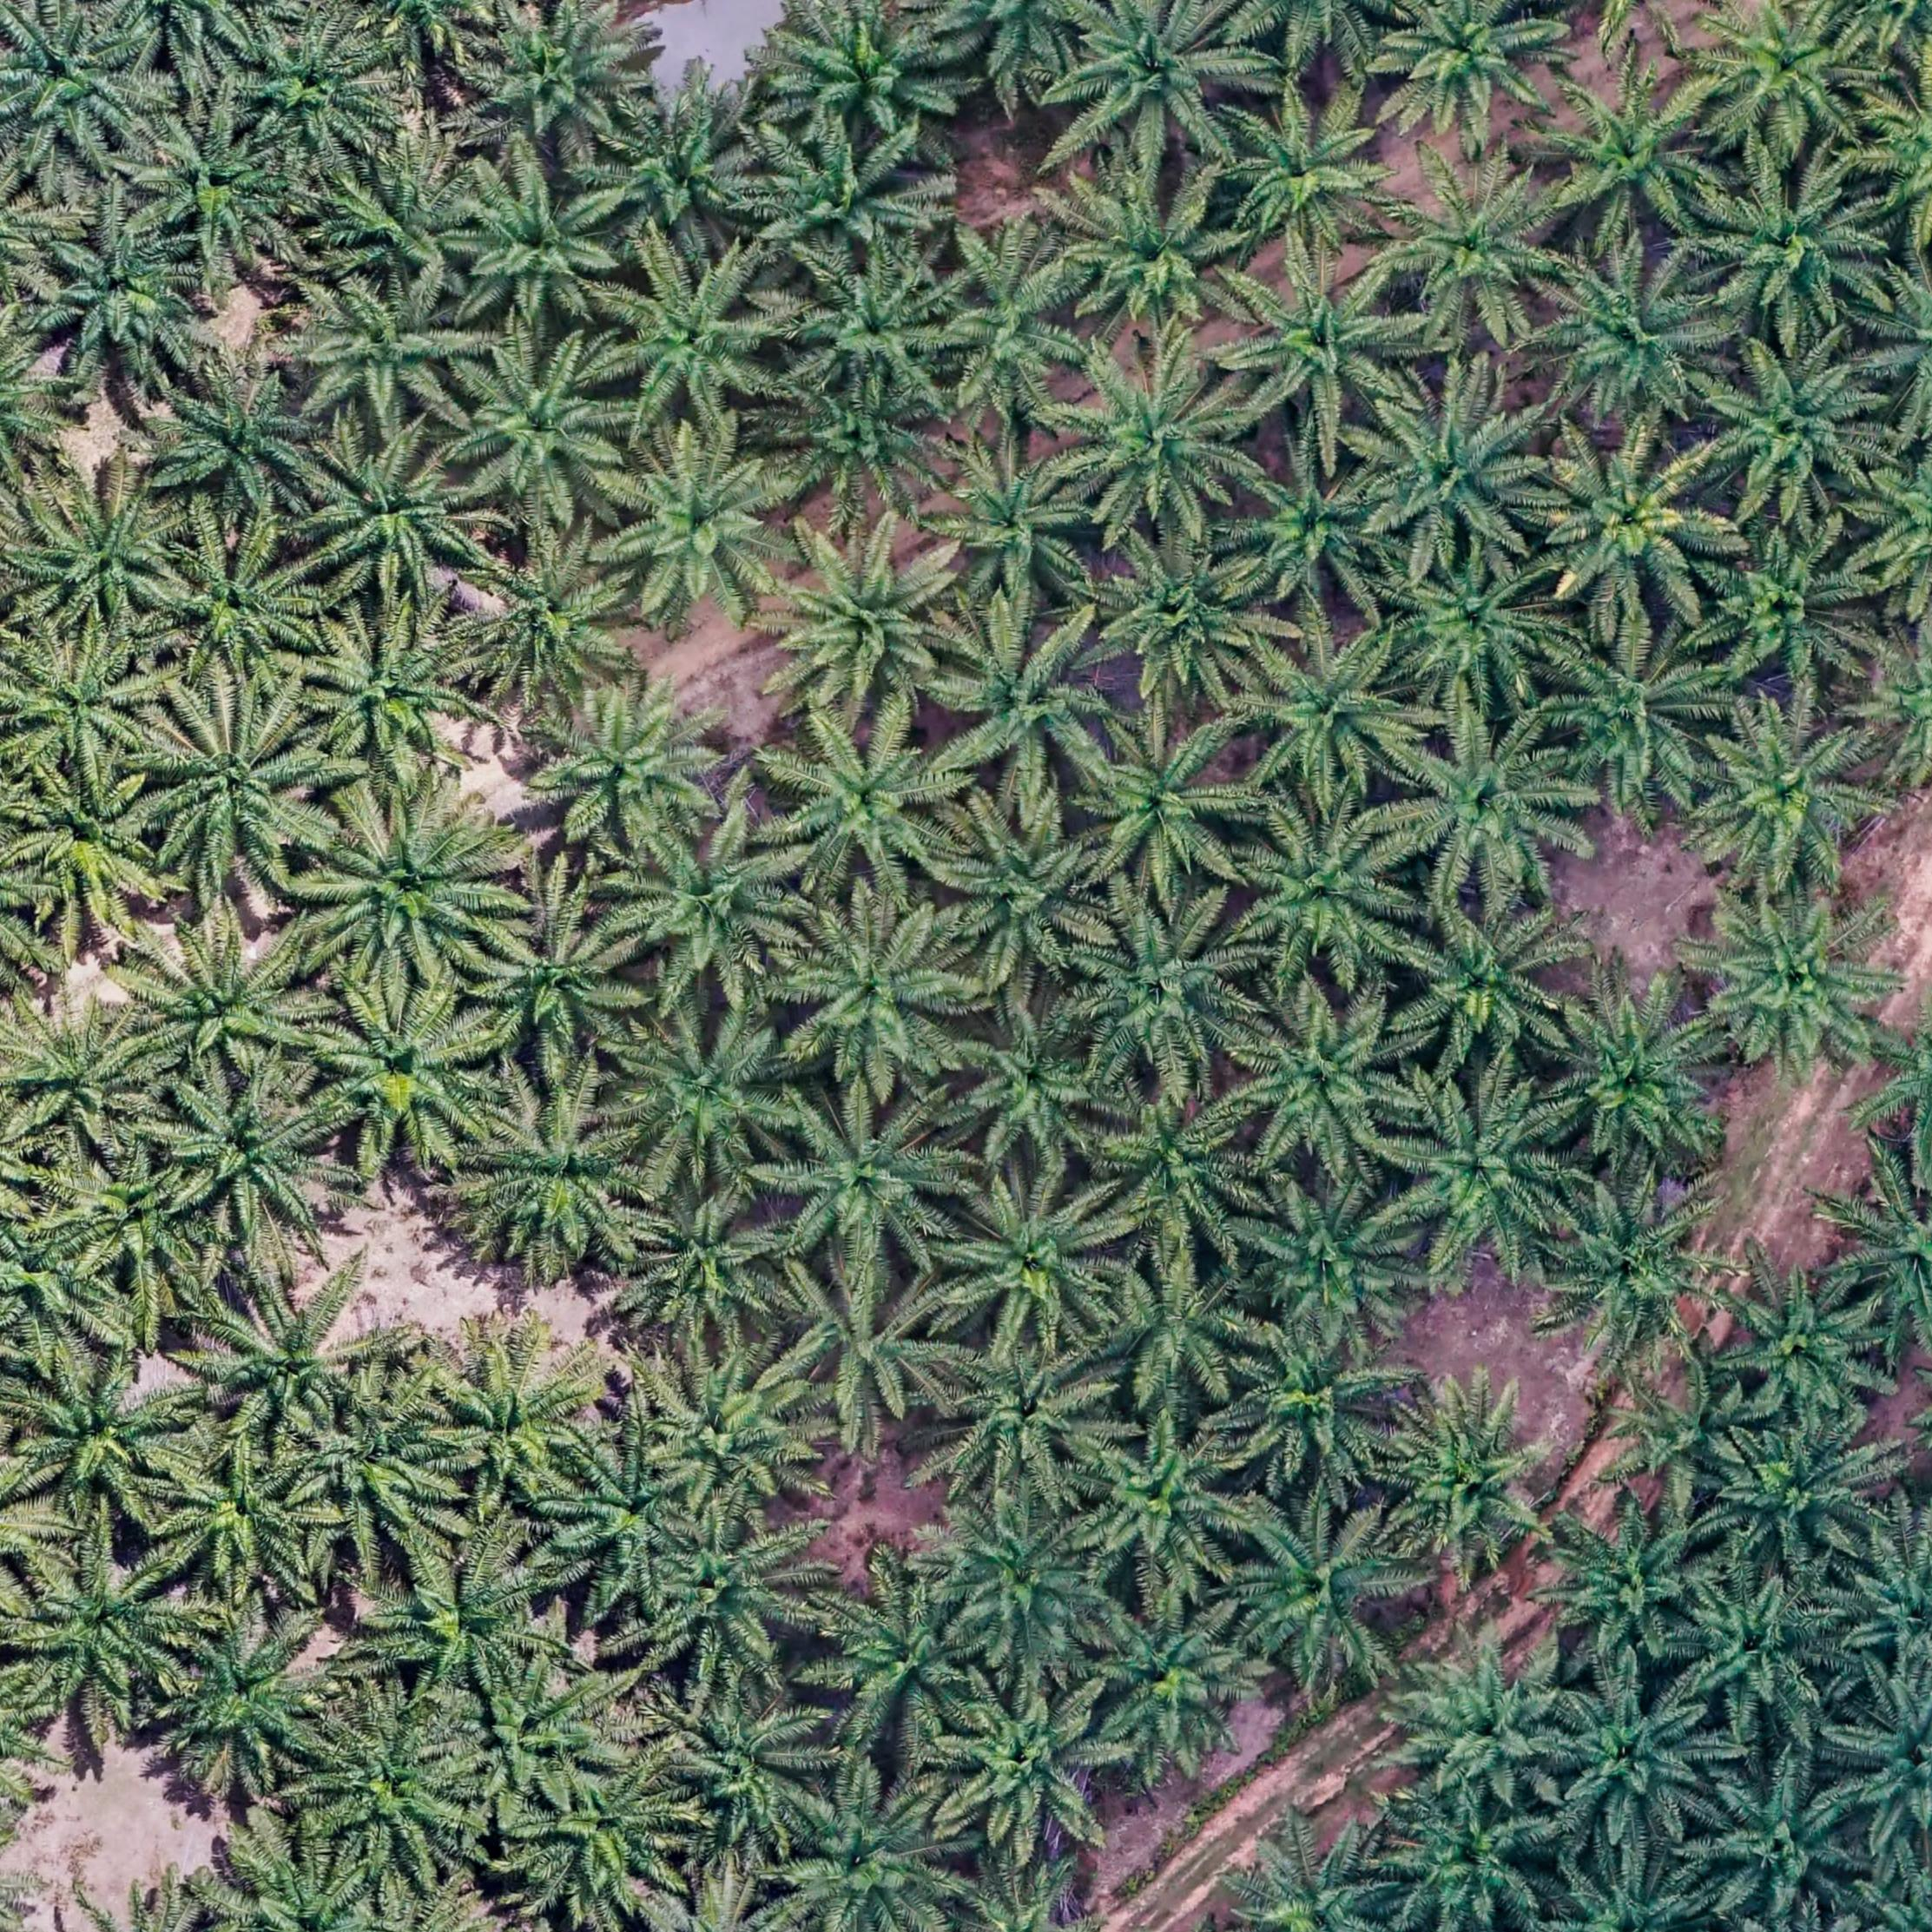palmtree: (518, 665, 741, 865), (306, 784, 524, 984), (761, 527, 973, 729), (1219, 251, 1424, 441), (1362, 372, 1560, 566), (1378, 1382, 1578, 1575), (1698, 888, 1900, 1079), (142, 688, 340, 881), (1691, 708, 1891, 899), (1530, 433, 1729, 625), (1062, 345, 1260, 536), (609, 437, 809, 626), (766, 1088, 968, 1276), (614, 812, 814, 1000), (1392, 1079, 1587, 1270), (770, 718, 970, 904), (1532, 246, 1732, 432), (1392, 718, 1594, 902), (1534, 57, 1727, 248), (932, 610, 1127, 800), (1223, 1502, 1419, 1690), (780, 901, 975, 1088), (1389, 1631, 1583, 1819), (768, 1261, 968, 1444), (1380, 154, 1576, 338), (1237, 989, 1430, 1175), (1230, 798, 1424, 982), (460, 1085, 651, 1270), (1058, 159, 1251, 343), (313, 982, 506, 1166), (1698, 156, 1893, 338), (598, 248, 793, 430), (616, 1001, 812, 1182), (1074, 893, 1263, 1079), (1076, 715, 1265, 899), (1702, 336, 1891, 520), (941, 1171, 1132, 1353), (642, 1506, 833, 1688), (156, 1072, 347, 1253), (449, 340, 637, 522), (1090, 531, 1277, 711), (1394, 895, 1583, 1074), (1539, 1182, 1718, 1371), (1240, 1175, 1433, 1350), (1062, 0, 1260, 170), (1702, 524, 1888, 704), (458, 534, 644, 715), (156, 1612, 343, 1790), (642, 1345, 826, 1525), (1246, 628, 1433, 805), (939, 1683, 1127, 1859), (134, 916, 327, 1088), (1543, 989, 1727, 1168), (1541, 628, 1725, 807), (14, 1536, 200, 1713), (1215, 88, 1403, 264), (1074, 1414, 1263, 1587), (619, 1178, 803, 1355), (306, 432, 494, 605), (939, 800, 1120, 978), (308, 1704, 490, 1881), (14, 1346, 200, 1520), (205, 1272, 391, 1445), (934, 1330, 1122, 1502), (947, 996, 1125, 1175), (931, 437, 1109, 616), (1090, 1079, 1267, 1260), (432, 1329, 614, 1504), (1224, 1320, 1410, 1491), (929, 237, 1097, 426), (936, 1497, 1116, 1672), (1083, 1596, 1263, 1771), (295, 269, 487, 433), (455, 161, 635, 334), (464, 2, 655, 165), (766, 4, 961, 163), (1221, 444, 1401, 616), (39, 205, 211, 386), (370, 1536, 552, 1706), (451, 1652, 639, 1817), (1545, 1674, 1723, 1845), (745, 126, 941, 281), (306, 609, 492, 773), (812, 1575, 991, 1744), (285, 1389, 465, 1557), (1389, 548, 1573, 713), (1693, 0, 1881, 161), (1539, 1506, 1713, 1679), (594, 90, 773, 257), (780, 1775, 968, 1932), (154, 356, 331, 522), (469, 902, 648, 1067), (518, 1753, 697, 1918), (1716, 1417, 1898, 1578), (18, 471, 198, 632), (665, 1690, 835, 1858), (1700, 1760, 1874, 1923), (154, 1440, 333, 1598), (154, 531, 329, 690), (138, 111, 308, 274), (771, 373, 954, 524), (1723, 1269, 1890, 1433), (14, 761, 177, 927), (787, 249, 959, 407), (1092, 1253, 1265, 1408), (1382, 0, 1569, 143), (1675, 1571, 1842, 1732), (7, 998, 175, 1154), (237, 18, 403, 173), (48, 1145, 216, 1297), (4, 9, 161, 165), (1391, 1792, 1564, 1932), (327, 152, 492, 297), (9, 635, 172, 780), (548, 1442, 702, 1594), (1605, 1362, 1750, 1507), (1831, 1148, 1932, 1338), (1833, 1679, 1932, 1865), (212, 1835, 398, 1932), (1228, 1836, 1407, 1932), (924, 0, 1072, 110), (0, 1210, 108, 1352), (1840, 1527, 1932, 1688), (1537, 1854, 1725, 1932), (1237, 0, 1389, 85), (363, 0, 497, 78), (1886, 262, 1932, 439), (1890, 628, 1932, 784), (1890, 460, 1932, 609)
